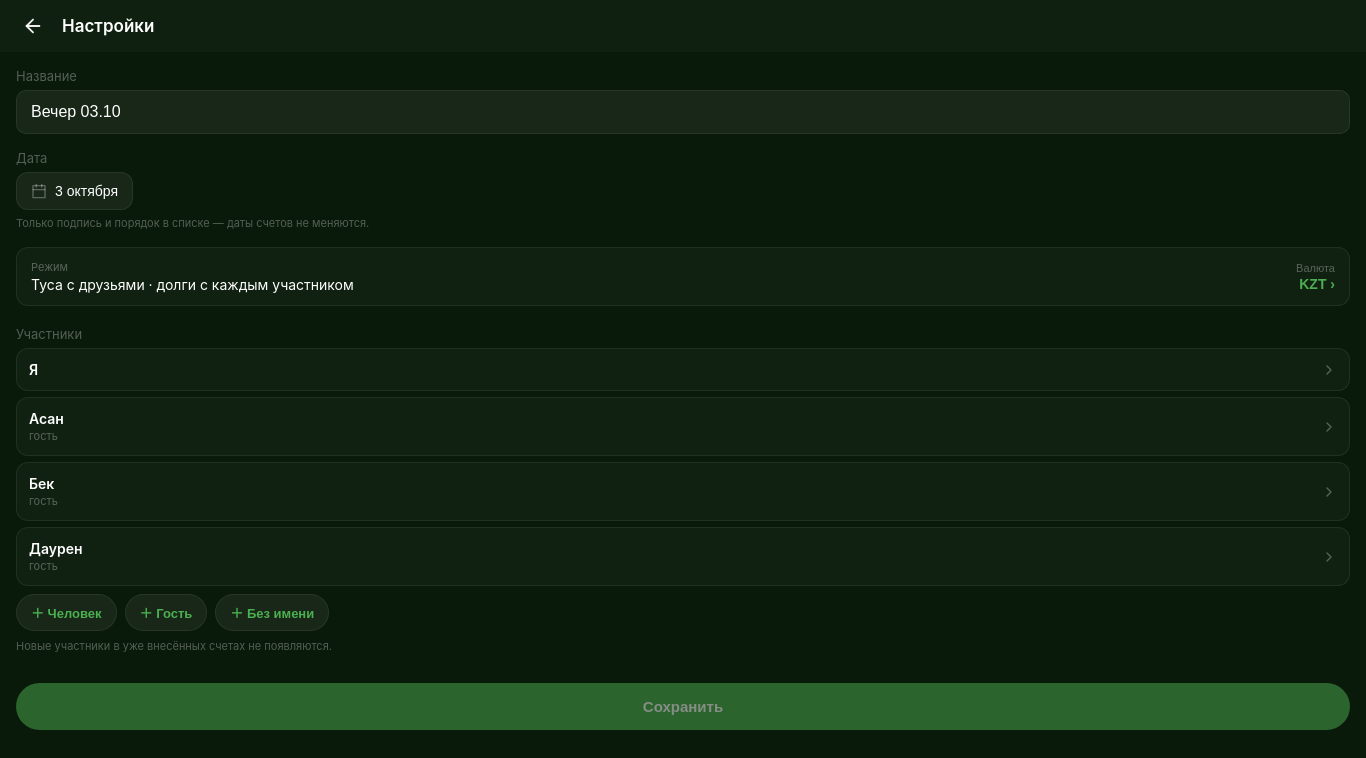
§7.5: участник в записях не удаляется — видно, где он есть
Click the text "Асан". click: (46, 419)
box: [29,410,64,427]
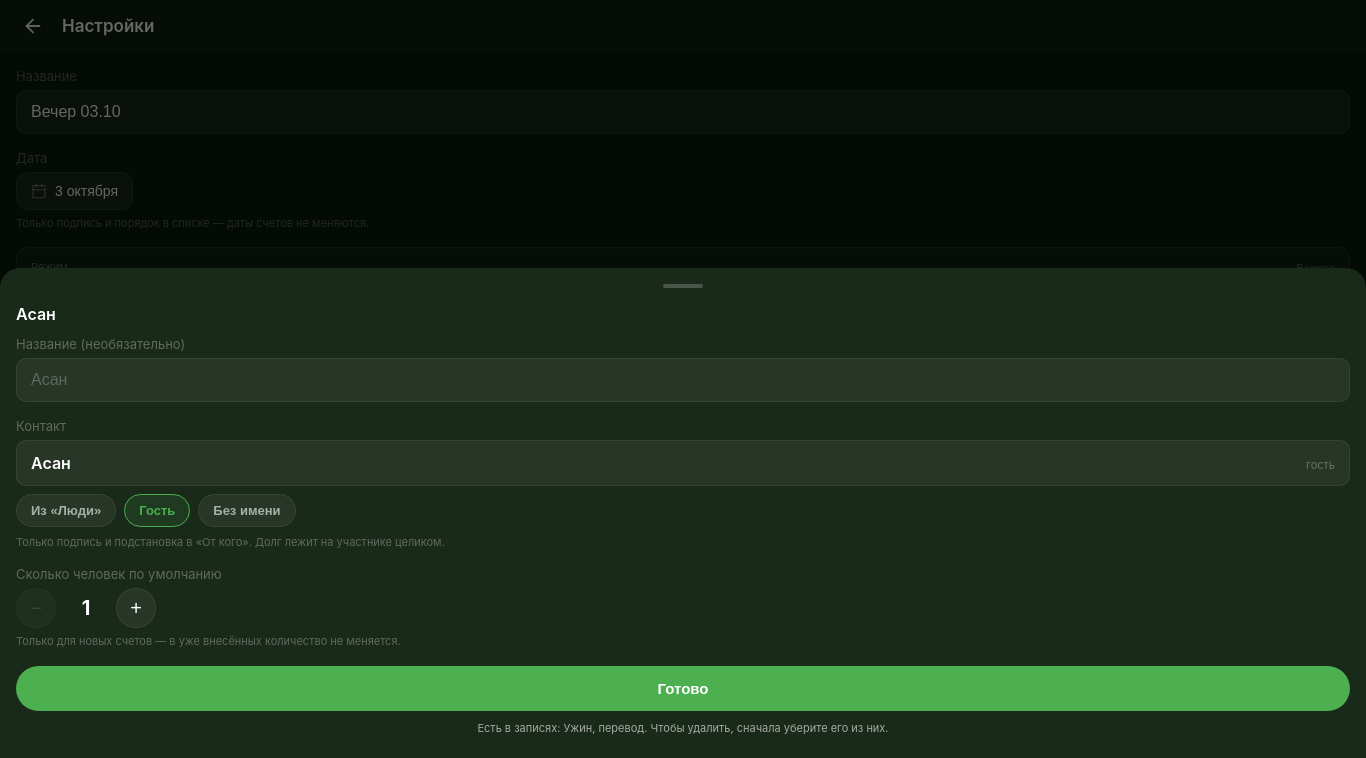
Now the text "Есть в записях: Ужин, перевод" is shown, box [477,721,888,735]
